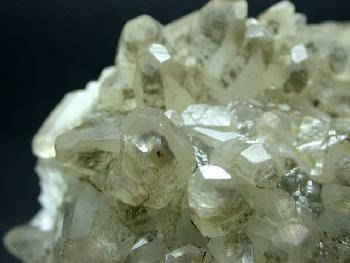calcite: (57, 99, 350, 263)
